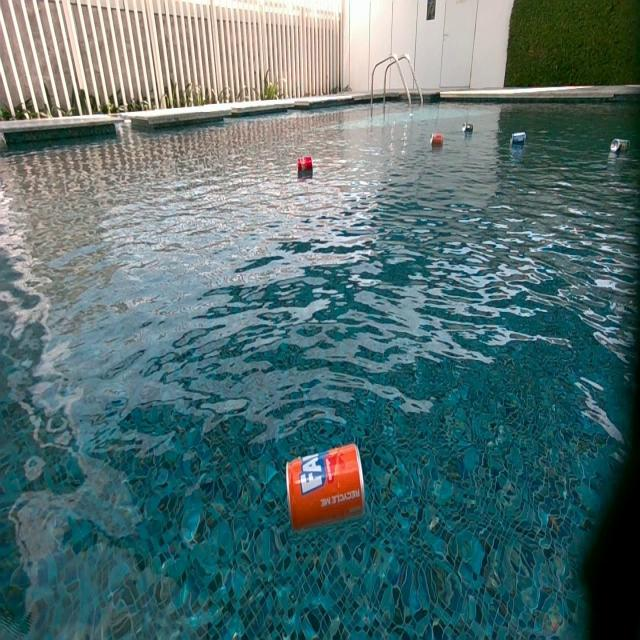Cans: (285, 444, 368, 538), (611, 139, 629, 155), (298, 158, 314, 175), (512, 133, 528, 149), (430, 134, 444, 149), (462, 121, 473, 133)
